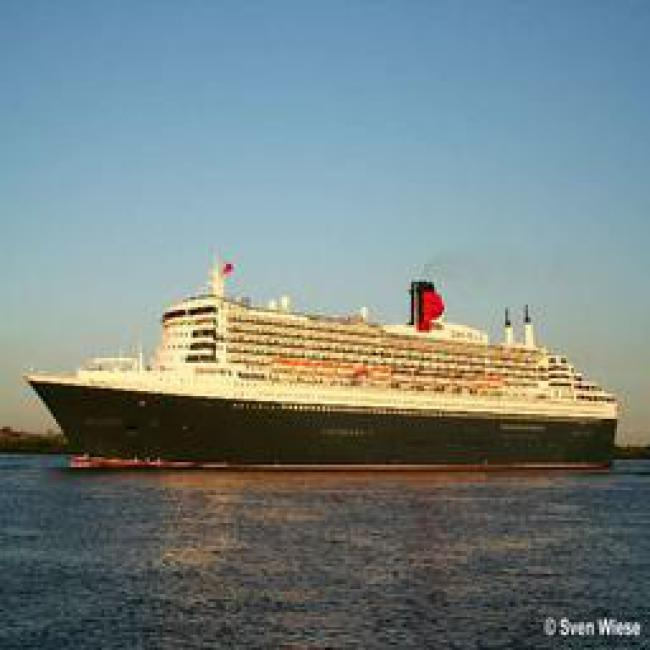Ship: (31, 287, 629, 493)
